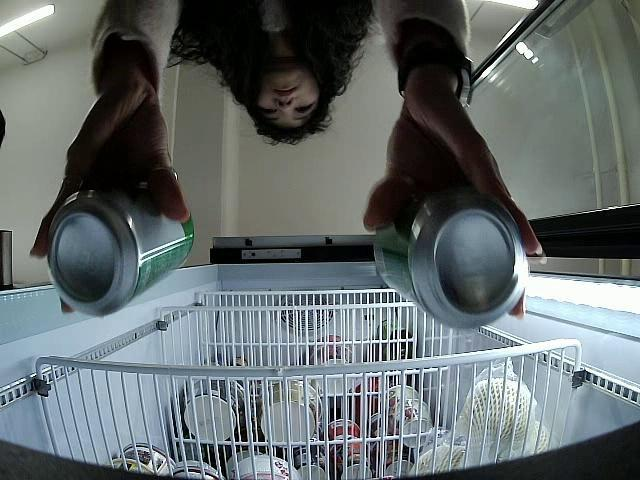12_chilsungCider: (374, 189, 528, 331), (48, 193, 194, 318)
